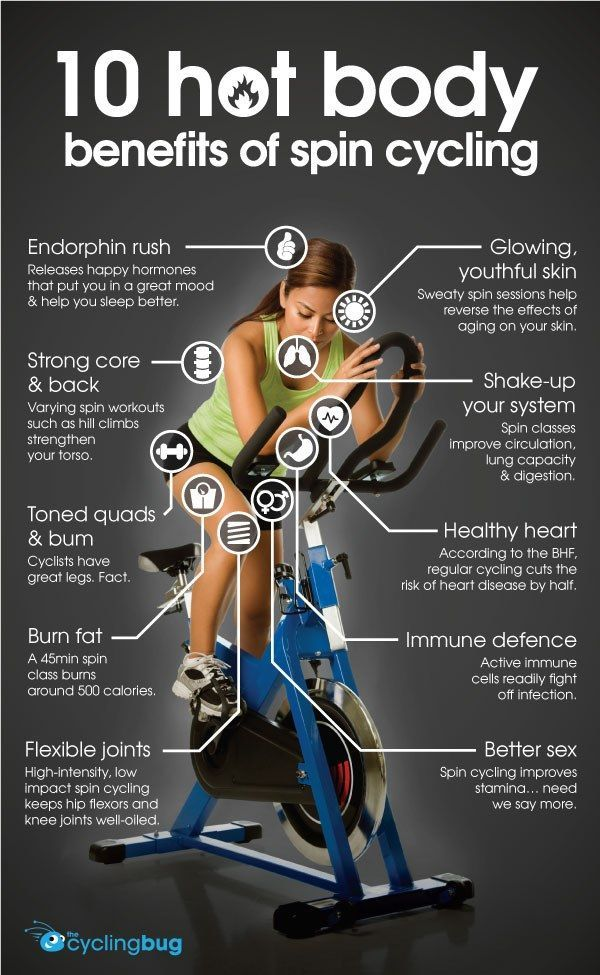gym_bike: (94, 335, 481, 920)
